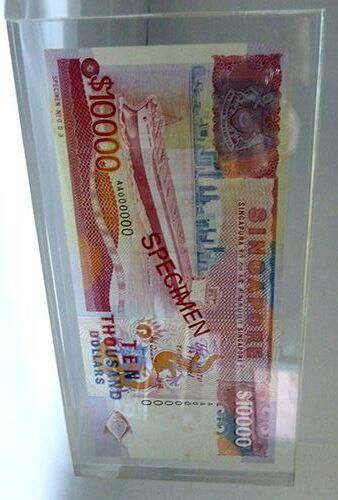10000SingaporeDollar: (60, 55, 279, 465)
